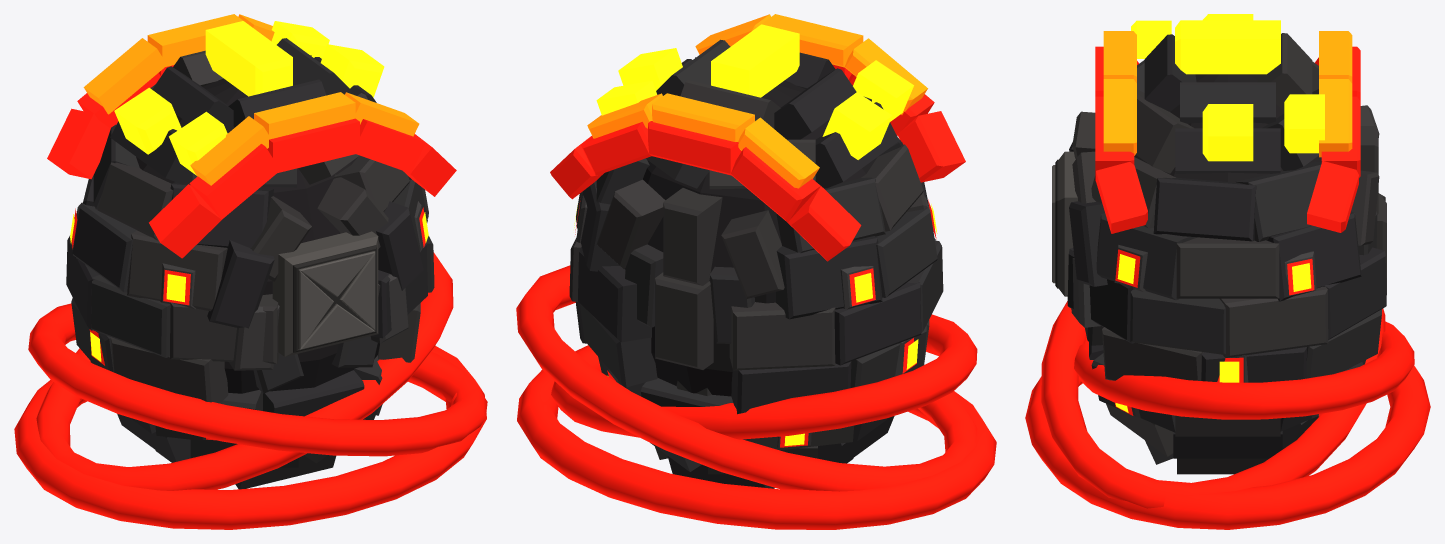
The model's file is Inferno Coil Egg.fbx.
The picture shows the model from 3 angles, left to right: view 1: azimuth 30°, elevation 25°; view 2: azimuth 150°, elevation 25°; view 3: azimuth 270°, elevation 25°; orthographic projection.
Parts seen in each view (by area): view 1: Coil | rising right, Coil | circular guard, Coil | rising left, Egg core, Yellow crown block 1, Basalt plate 06.09, Basalt plate 05.09, Basalt plate 04.08, Basalt plate 05.10, Square iron bezel, Left | lock surround 2, Basalt plate 07.08 (+48 smaller); view 2: Coil | circular guard, Coil | rising left, Coil | rising right, Egg core, Basalt plate 05.07, Basalt plate 06.07, Rear spine 2, Rear spine 3, Basalt plate 05.08, Yellow crown block 1, Basalt plate 04.06, Left | rear shoulder 2 (+40 smaller); view 3: Coil | circular guard, Coil | rising right, Coil | rising left, Basalt plate 06.03, Basalt plate 07.03, Basalt plate 05.04, Yellow crown block 1, Basalt plate 05.03, Basalt plate 06.04, Basalt plate 07.04, Basalt plate 06.02, Basalt plate 04.02 (+39 smaller).
Part boxes in pixels (bbox=[...]): Coil | rising right: bbox=[28, 303, 487, 456]; Coil | circular guard: bbox=[14, 345, 486, 529]; Coil | rising left: bbox=[36, 252, 453, 490]; Egg core: bbox=[136, 78, 379, 393]; Yellow crown block 1: bbox=[205, 21, 292, 96]; Basalt plate 06.09: bbox=[127, 230, 227, 311]; Basalt plate 05.09: bbox=[91, 275, 170, 357]; Basalt plate 04.08: bbox=[111, 337, 228, 403]; Basalt plate 05.10: bbox=[170, 294, 279, 363]; Square iron bezel: bbox=[272, 231, 378, 356]; Left | lock surround 2: bbox=[207, 240, 274, 328]; Basalt plate 07.08: bbox=[97, 162, 173, 240]; Coil | circular guard: bbox=[517, 349, 996, 529]; Coil | rising left: bbox=[516, 265, 977, 491]; Coil | rising right: bbox=[551, 314, 977, 439]; Egg core: bbox=[625, 80, 877, 396]; Basalt plate 05.07: bbox=[729, 302, 835, 370]; Basalt plate 06.07: bbox=[776, 236, 882, 319]; Rear spine 2: bbox=[655, 272, 713, 369]; Rear spine 3: bbox=[663, 188, 722, 285]; Basalt plate 05.08: bbox=[834, 282, 921, 365]; Yellow crown block 1: bbox=[711, 24, 799, 97]; Basalt plate 04.06: bbox=[731, 361, 851, 414]; Left | rear shoulder 2: bbox=[721, 210, 784, 298]; Coil | circular guard: bbox=[1025, 365, 1430, 529]; Coil | rising right: bbox=[1041, 301, 1385, 508]; Coil | rising left: bbox=[1074, 321, 1414, 419]; Basalt plate 06.03: bbox=[1176, 237, 1279, 298]; Basalt plate 07.03: bbox=[1153, 177, 1256, 241]; Basalt plate 05.04: bbox=[1219, 286, 1328, 357]; Yellow crown block 1: bbox=[1175, 20, 1280, 74]; Basalt plate 05.03: bbox=[1130, 289, 1225, 354]; Basalt plate 06.04: bbox=[1266, 212, 1361, 301]; Basalt plate 07.04: bbox=[1236, 161, 1321, 241]; Basalt plate 06.02: bbox=[1096, 213, 1196, 300]; Basalt plate 04.02: bbox=[1102, 327, 1202, 380].
Size of the model in its own units: 308 by 282 by 249.
